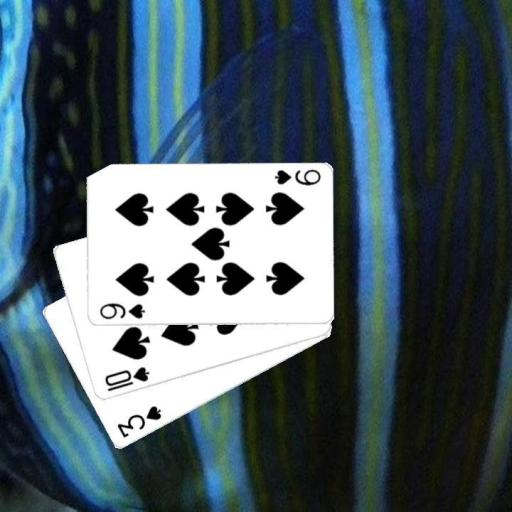10S: (101, 364, 151, 394)
3S: (114, 403, 163, 440)
9S: (96, 300, 146, 322), (271, 166, 321, 187)
